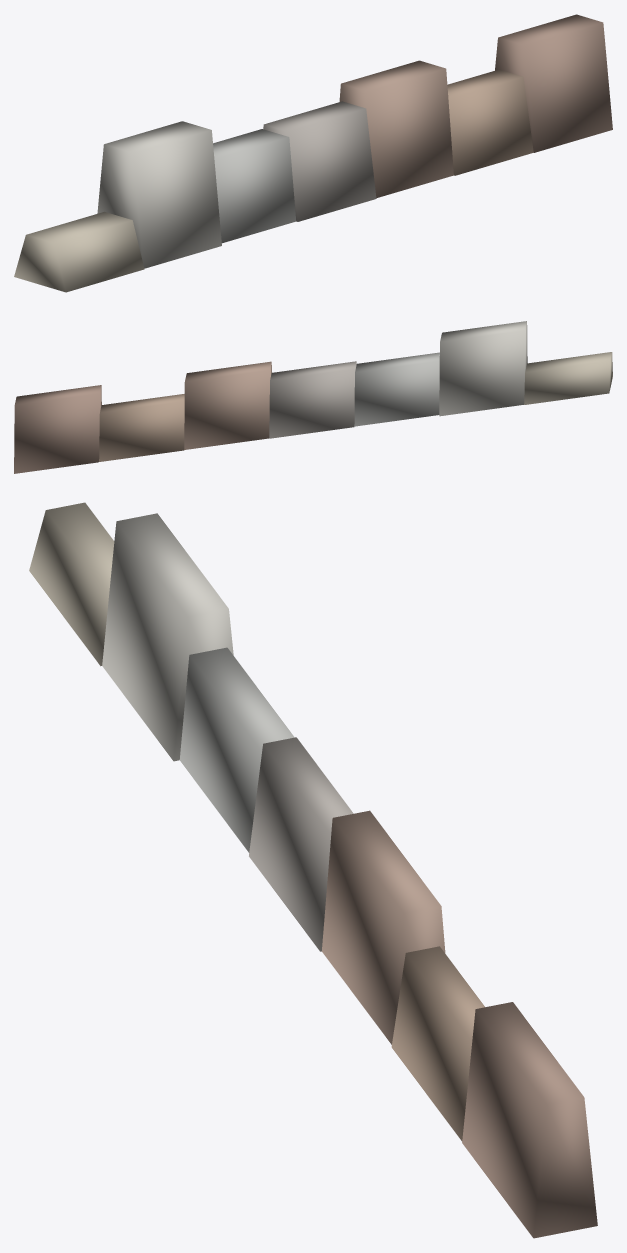
File: farm_-3_-6_collision.glb
The picture shows the model from 3 angles, top to bottom: view 1: azimuth 30°, elevation 25°; view 2: azimuth 150°, elevation 25°; view 3: azimuth 270°, elevation 25°; orthographic projection. The views are drawn at different scales.
Parts seen in each view (by area): view 1: geometry_0; view 2: geometry_0; view 3: geometry_0.
Part boxes in pixels (x1=…): geometry_0: x1=14, y1=14, x2=612, y2=292; geometry_0: x1=14, y1=321, x2=612, y2=473; geometry_0: x1=29, y1=502, x2=597, y2=1238.
Bounding box in the file's own units: 10.27 × 3.26 × 5.22.
